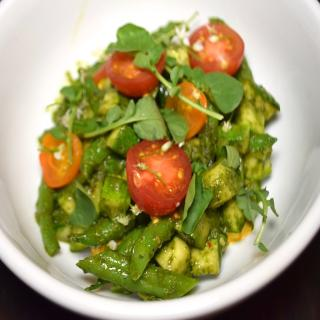tomato: (127, 138, 191, 216), (91, 51, 164, 99), (188, 20, 246, 75), (37, 131, 85, 190)
